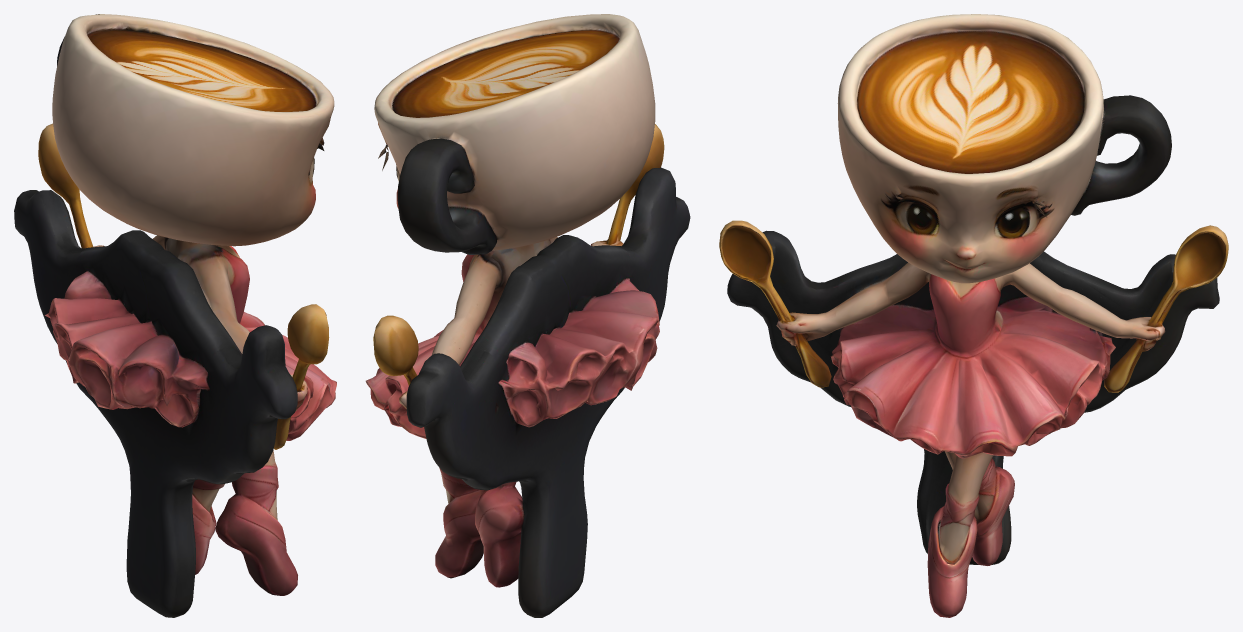
The model's file is 047-chibi-pet-tripo-v25-standard-15k.glb.
The picture shows the model from 3 angles, left to right: view 1: azimuth 30°, elevation 25°; view 2: azimuth 150°, elevation 25°; view 3: azimuth 270°, elevation 25°; orthographic projection. The views are drawn at different scales.
Visible parts, largest first — view 1: tripo_node_d71c419d-d1ca-49c7-a253-bc9ab2bebba0; view 2: tripo_node_d71c419d-d1ca-49c7-a253-bc9ab2bebba0; view 3: tripo_node_d71c419d-d1ca-49c7-a253-bc9ab2bebba0.
Boxes of the visible parts, x1,y1,x2,y2 form: tripo_node_d71c419d-d1ca-49c7-a253-bc9ab2bebba0: (14, 14, 336, 617); tripo_node_d71c419d-d1ca-49c7-a253-bc9ab2bebba0: (365, 14, 690, 617); tripo_node_d71c419d-d1ca-49c7-a253-bc9ab2bebba0: (719, 14, 1228, 617).
Size of the model in its own units: 0.4583 by 1 by 0.8802.
Materials: 1 (1 with a texture image).
